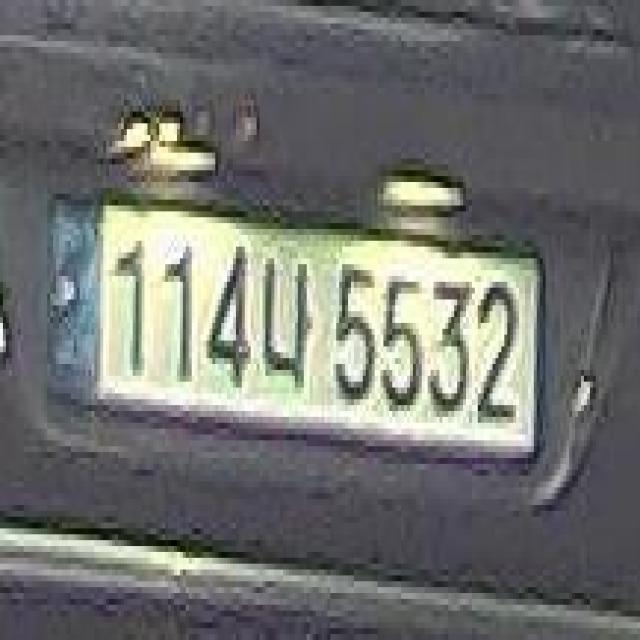illegal_plate: (34, 182, 541, 485)
